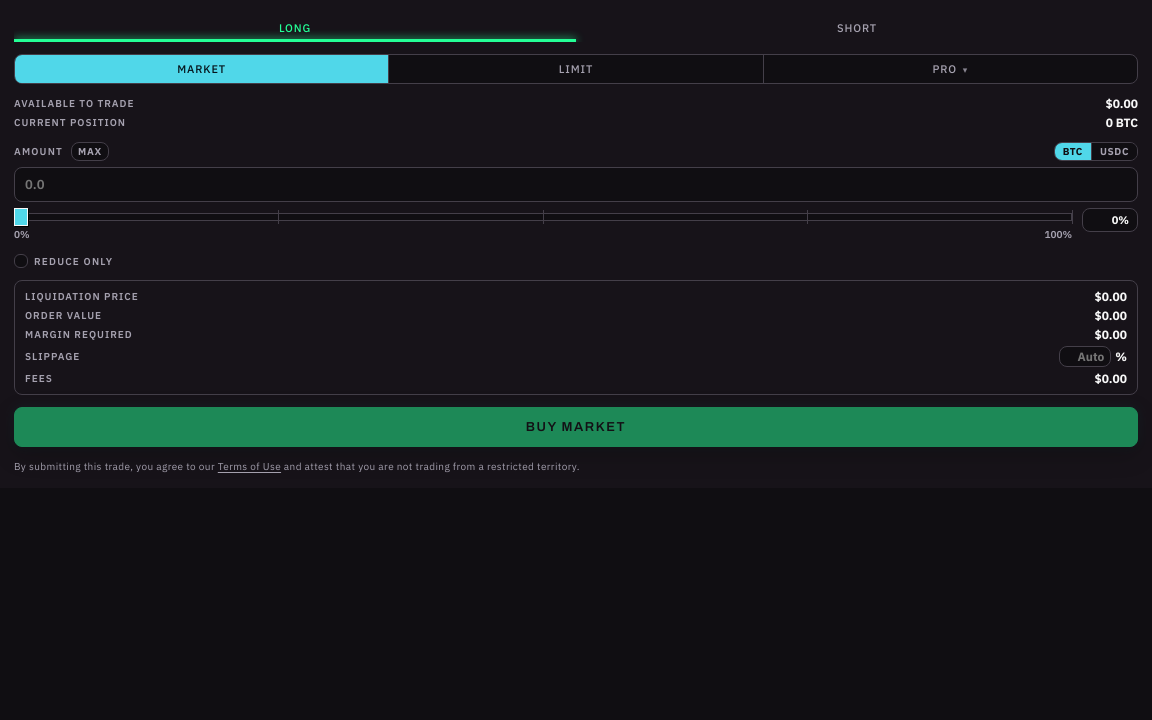
Scenario: OrderEntry › keeps the submit disabled until both stop and limit price are entered (Stop Limit)
The image size is (1152, 720).
Click the button "Pro ▾" at (950, 69), box top-left (764, 55), bottom-right (1137, 83)
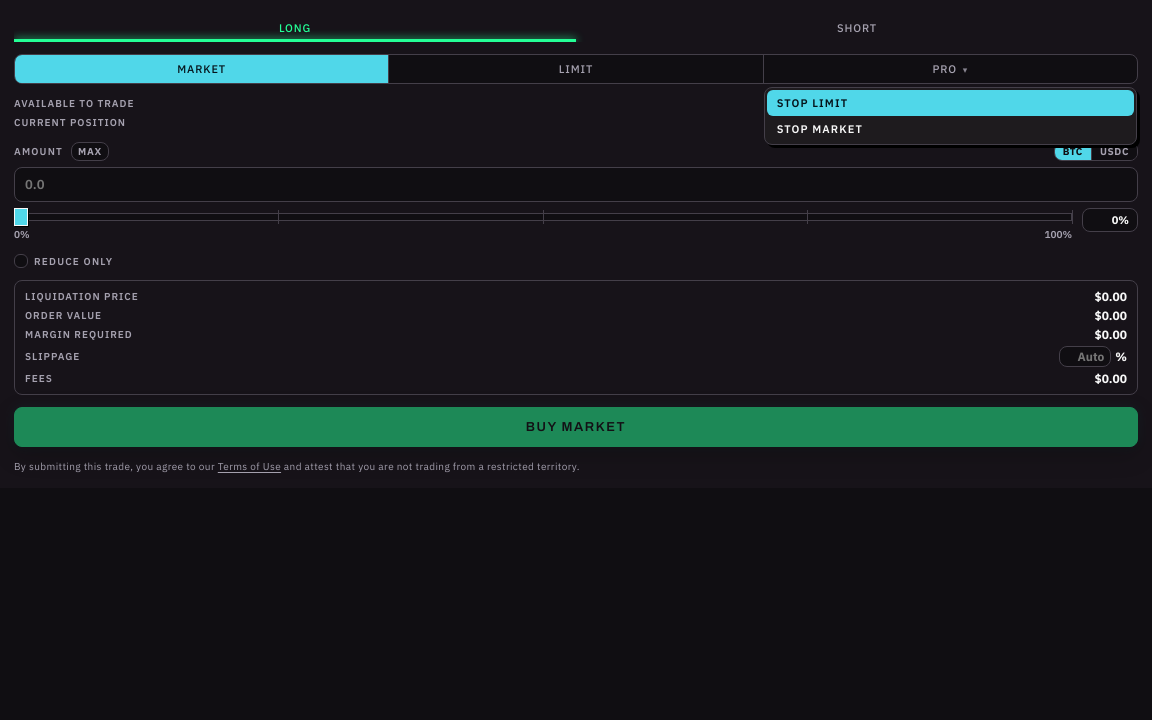
Click the option "Stop Limit" at (812, 103), box top-left (767, 90), bottom-right (1134, 116)
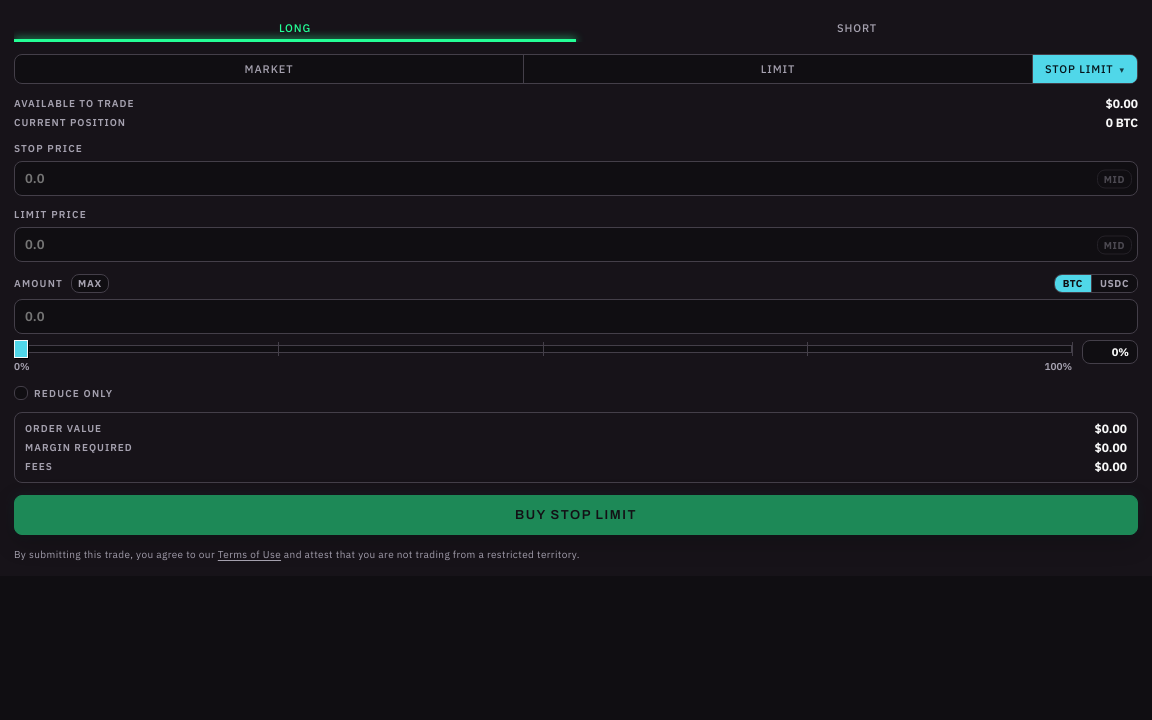
Type "2" into the field named "Order size" at (576, 316), box top-left (14, 299), bottom-right (1138, 334)
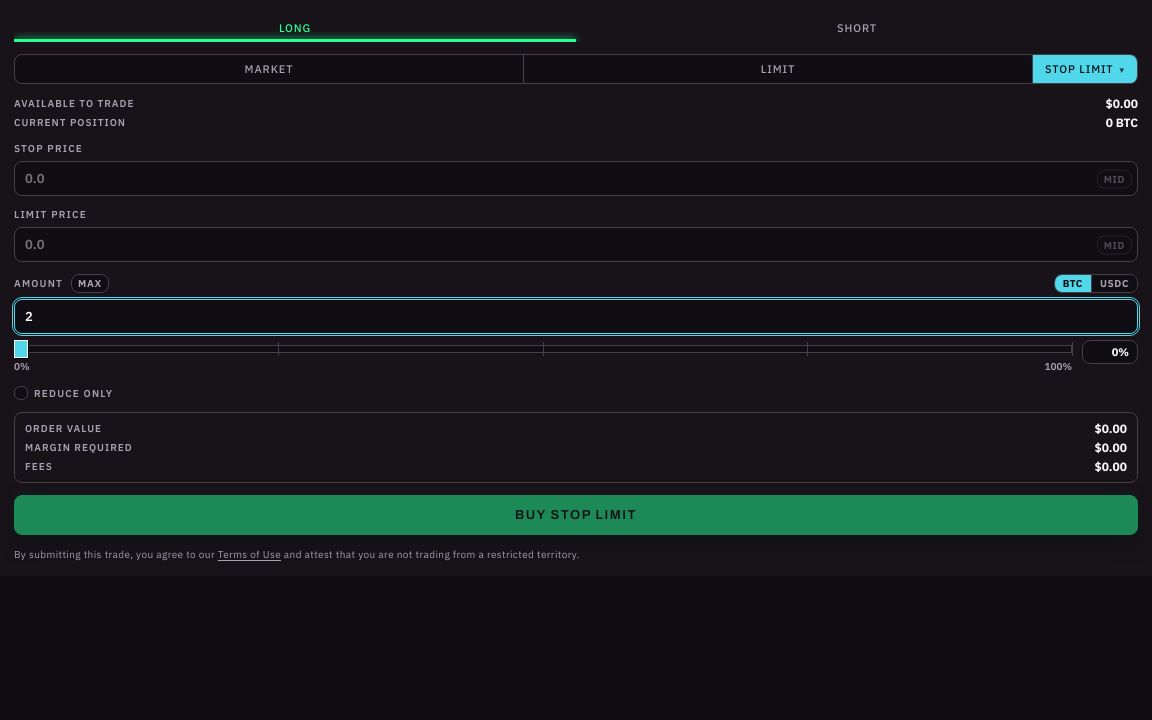
Type "65000" into the field labelled "Stop Price" at (576, 178), box top-left (14, 161), bottom-right (1138, 196)
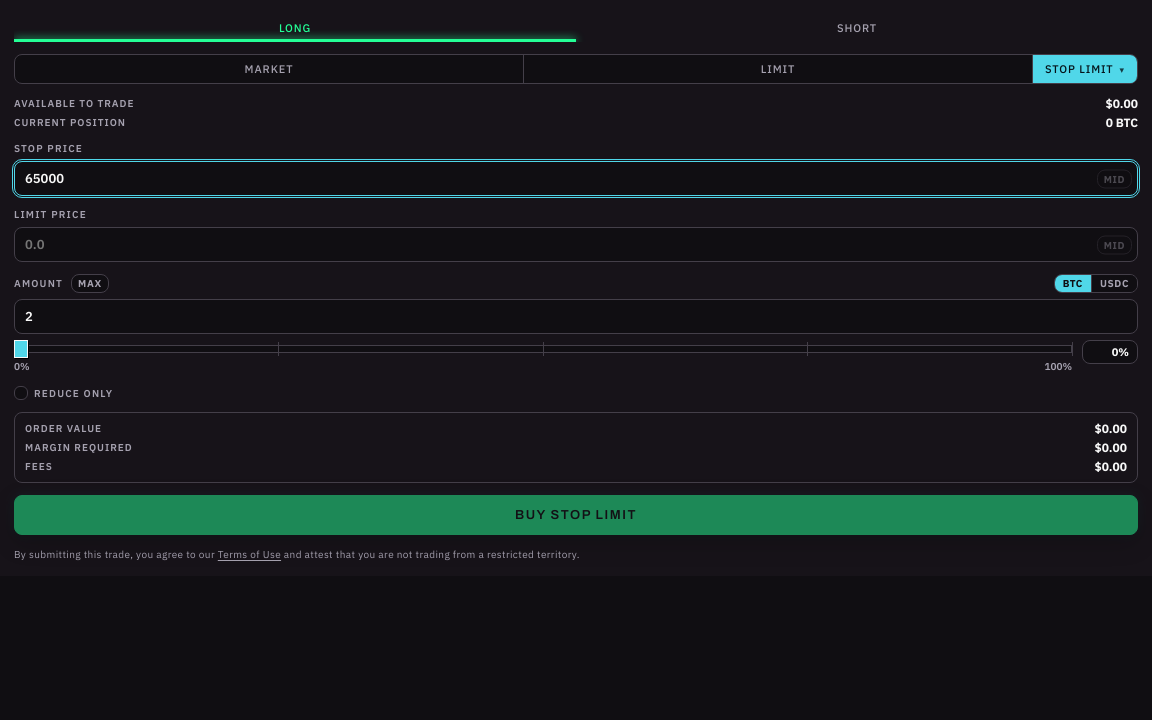
Check: the button with aria-label "submit" is disabled, box top-left (14, 495), bottom-right (1138, 535)
Type "64900" into the field labelled "Limit price" at (576, 244), box top-left (14, 227), bottom-right (1138, 262)
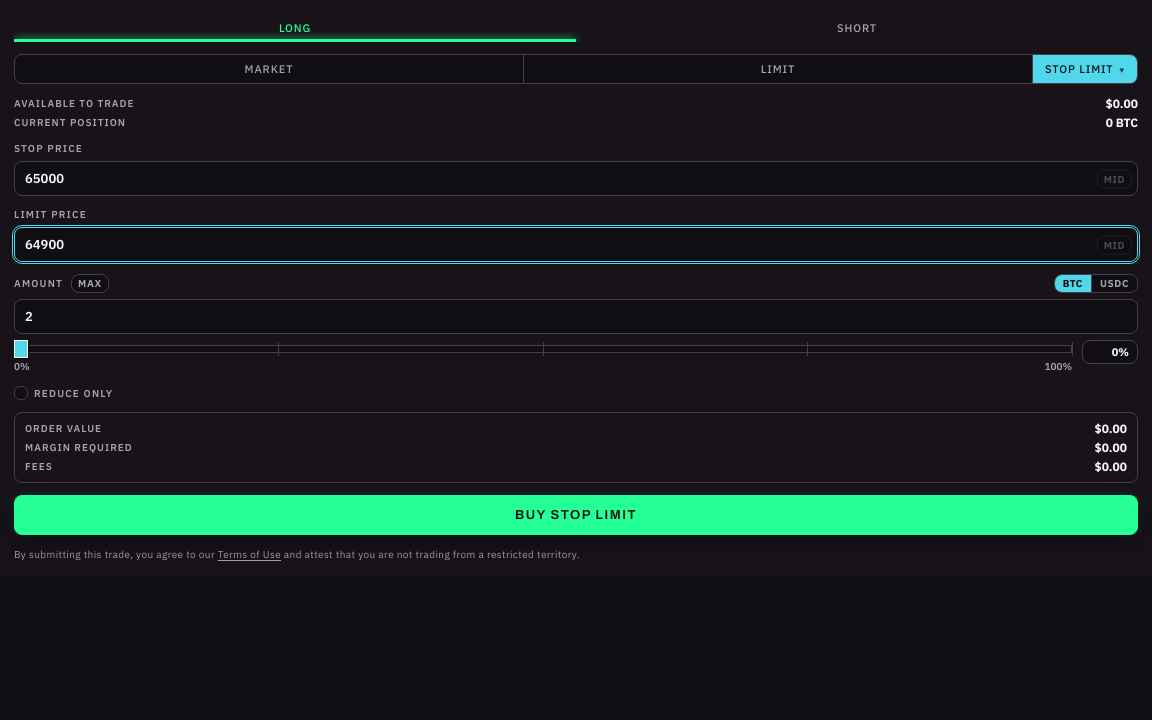
Check: the button with aria-label "submit" is enabled, box top-left (14, 495), bottom-right (1138, 535)
